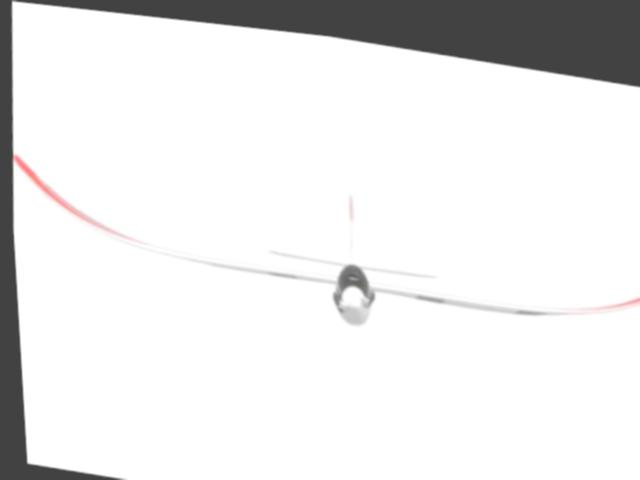uav: (6, 138, 640, 350)
